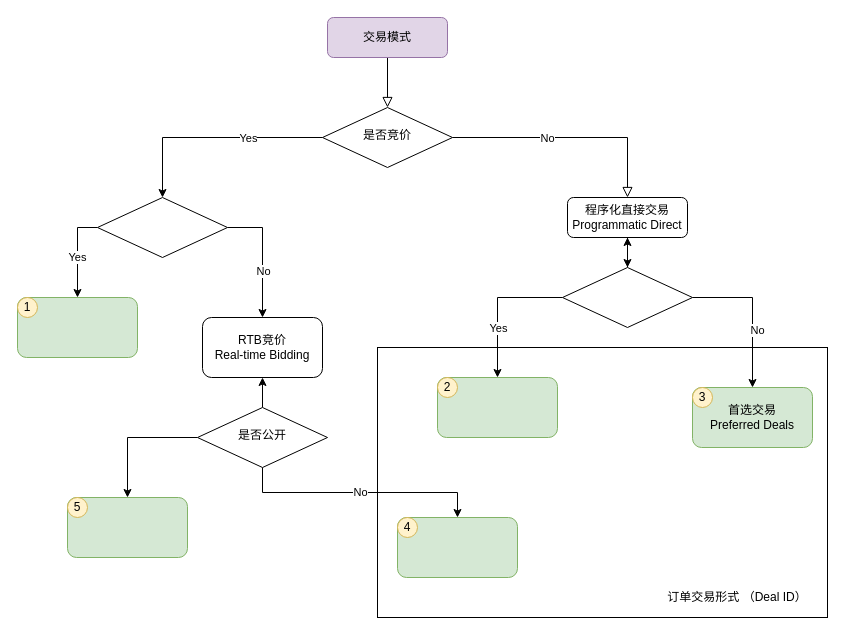
This 845x635 diagram has some shape labels left out. Each missing label, with the box of its shape:
公开交易 Open RTB: (66, 496, 188, 558)
头部竞价 Header Bidding: (16, 296, 138, 358)
是否First Look: (96, 196, 228, 258)
是否保量: (562, 266, 692, 328)
私有交易 Private Auction: (396, 516, 518, 578)
程序化保量 Programmatic Guaranteed: (436, 376, 558, 438)
